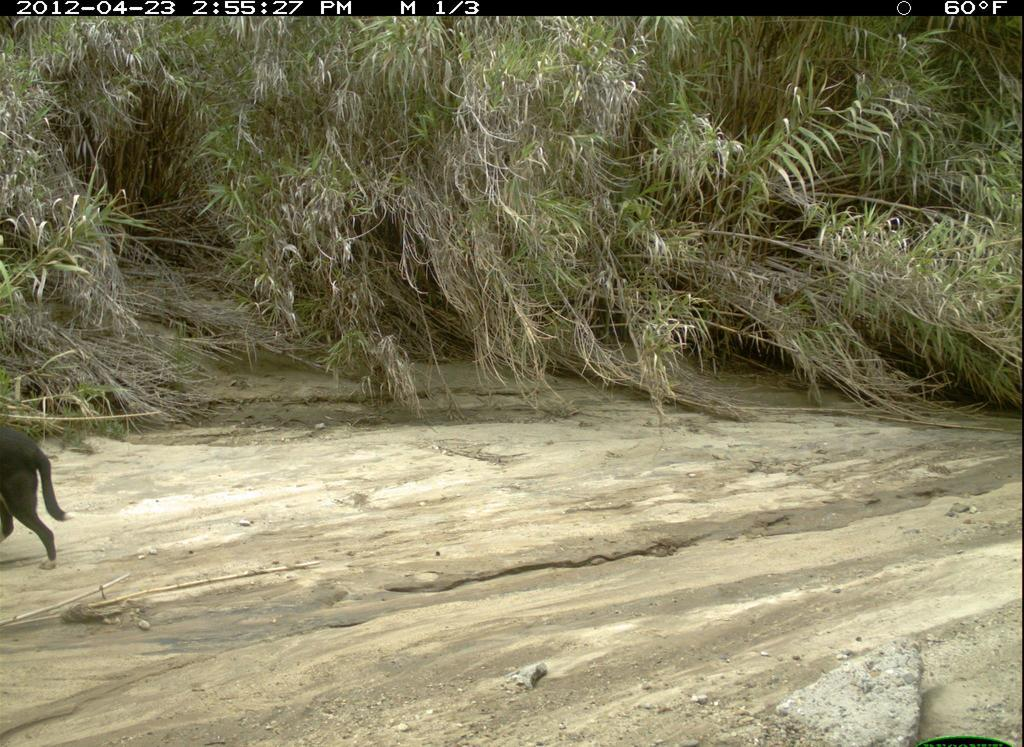dog: (1, 411, 81, 568)
